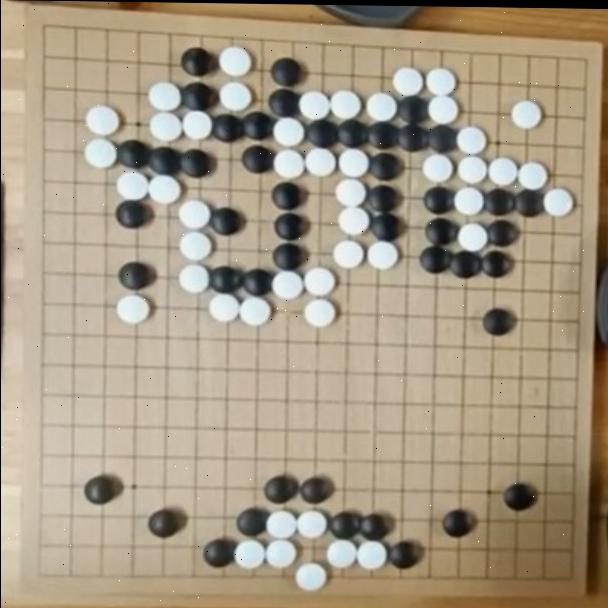corners: (25, 10, 71, 50), (22, 552, 60, 593), (560, 41, 600, 79), (546, 561, 584, 593)
